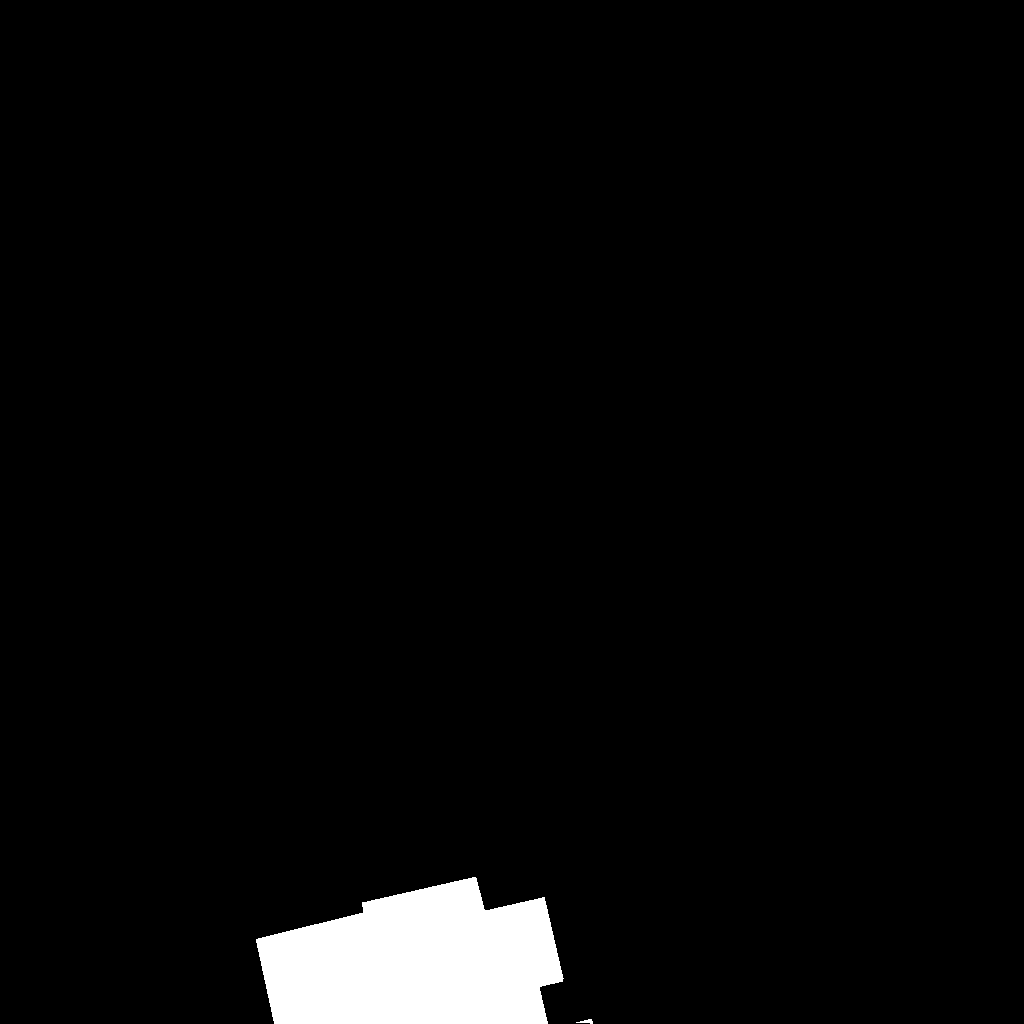building: (256, 877, 594, 1024)
